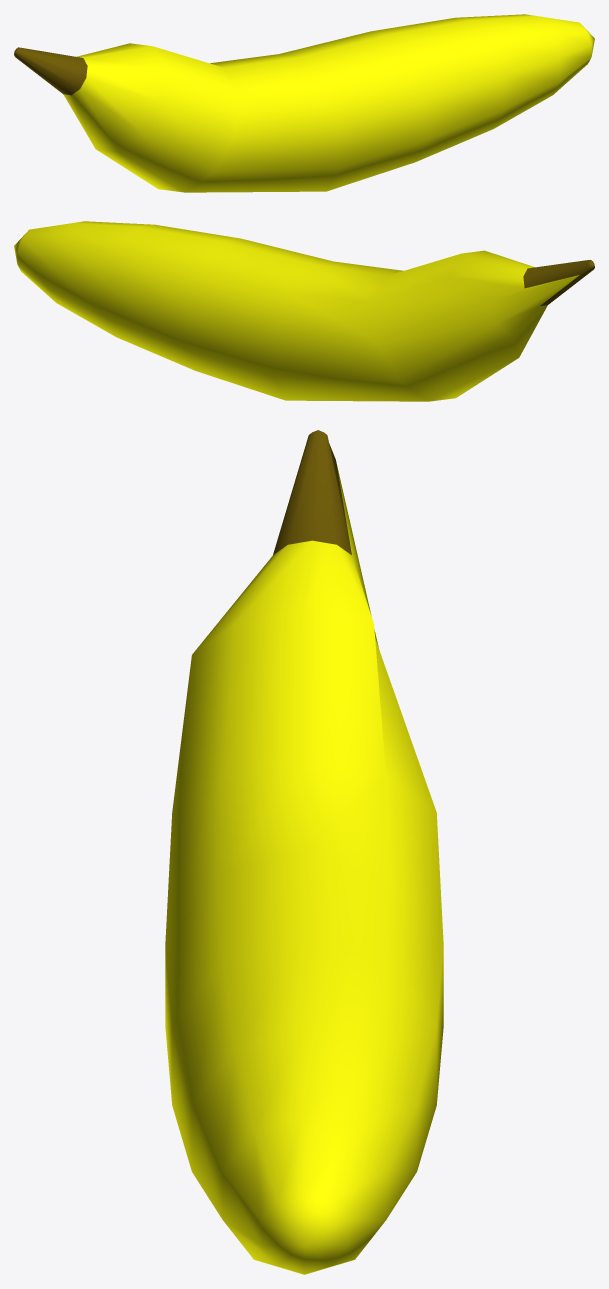
File: my_banana.fbx
3 views of the same model, one above another, from view 1: azimuth 30°, elevation 25°; view 2: azimuth 150°, elevation 25°; view 3: azimuth 270°, elevation 25° (orthographic). The views are drawn at different scales.
Visible parts, largest first — view 1: pSphere1; view 2: pSphere1; view 3: pSphere1.
Boxes of the visible parts, box(x1,y1,x2,y2) form: pSphere1: box(14, 14, 594, 192); pSphere1: box(14, 221, 594, 401); pSphere1: box(165, 430, 443, 1274).
Size of the model in its own units: 5.4 by 1.85 by 1.13.
